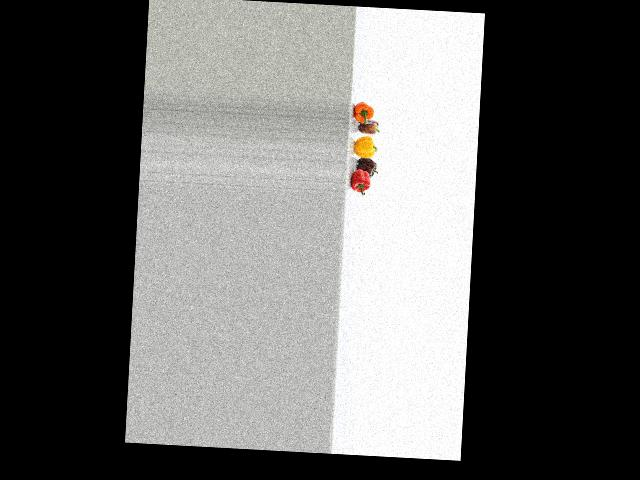bell_pepper: (350, 100, 381, 124)
